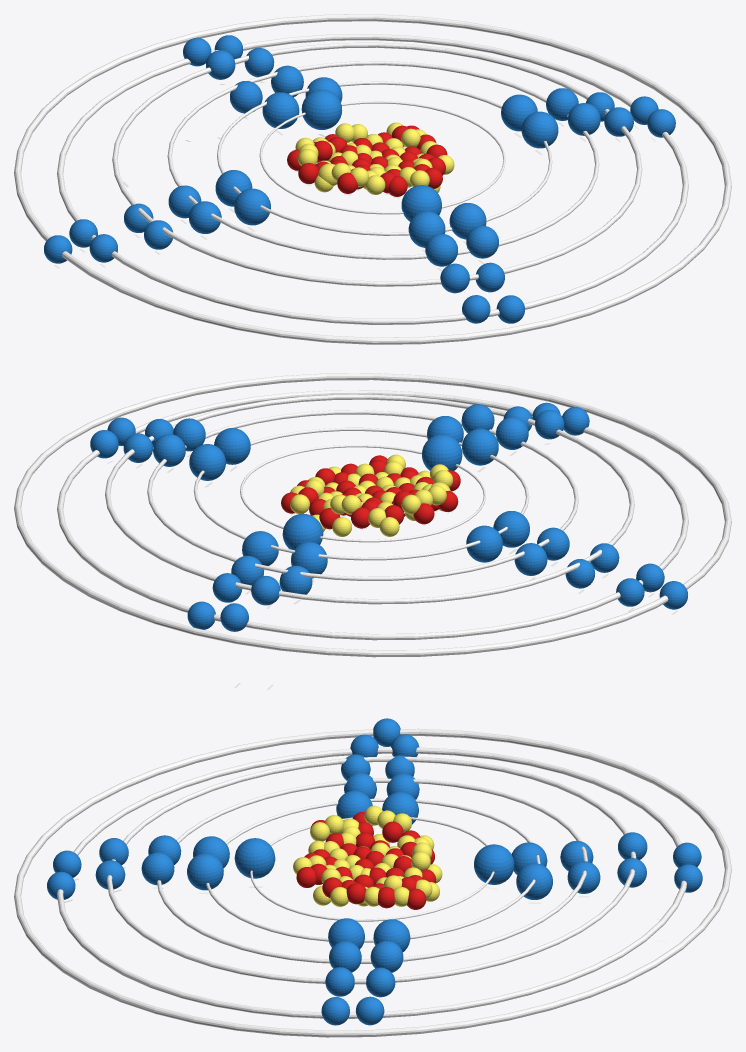
The picture shows the model from 3 angles, top to bottom: view 1: azimuth 30°, elevation 25°; view 2: azimuth 150°, elevation 25°; view 3: azimuth 270°, elevation 25°; orthographic projection.
Visible parts, largest first — view 1: Torus.006, Torus.005, Torus.004, Torus.003, Torus.002, Torus.001, g, g.005, g.003, g.001, g.008, g.007 (+26 smaller); view 2: Torus.006, Torus.005, Torus.004, Torus.003, Torus.002, Torus.001, g.001, g, g.006, g.004, g.002, g.005 (+25 smaller); view 3: Torus.006, Torus.005, Torus.004, Torus.003, Torus.002, g.001, g, Torus.001, g.007, g.009, g.015, g.005 (+28 smaller).
Part boxes in pixels (x1,y1,x2,y2): Torus.006: (14,14,731,344); Torus.005: (57,34,688,324); Torus.004: (112,42,642,286); Torus.003: (167,61,599,259); Torus.002: (217,81,552,235); Torus.001: (259,101,505,214); g: (301,89,342,129); g.005: (521,111,558,148); g.003: (234,188,270,225); g.001: (401,185,441,221); g.008: (262,92,299,128); g.007: (449,203,486,239); Torus.006: (14,373,731,657); Torus.005: (57,390,688,640); Torus.004: (105,394,634,604); Torus.003: (147,410,578,580); Torus.002: (193,427,529,560); Torus.001: (240,445,485,542); g.001: (422,434,462,470); g: (282,513,323,549); g.006: (462,428,498,465); g.004: (189,444,225,480); g.002: (466,525,502,562); g.005: (214,428,250,464); Torus.006: (14,728,731,1037); Torus.005: (57,747,686,1018); Torus.004: (106,756,636,984); Torus.003: (157,778,587,963); Torus.002: (206,798,540,942); g.001: (234,838,275,878); g: (474,844,514,884); Torus.001: (250,817,494,921); g.007: (187,853,223,890); g.009: (516,863,552,899); g.015: (141,852,174,885); g.005: (328,918,364,949).
Size of the model in its own units: 17.79 by 2.92 by 17.51.
